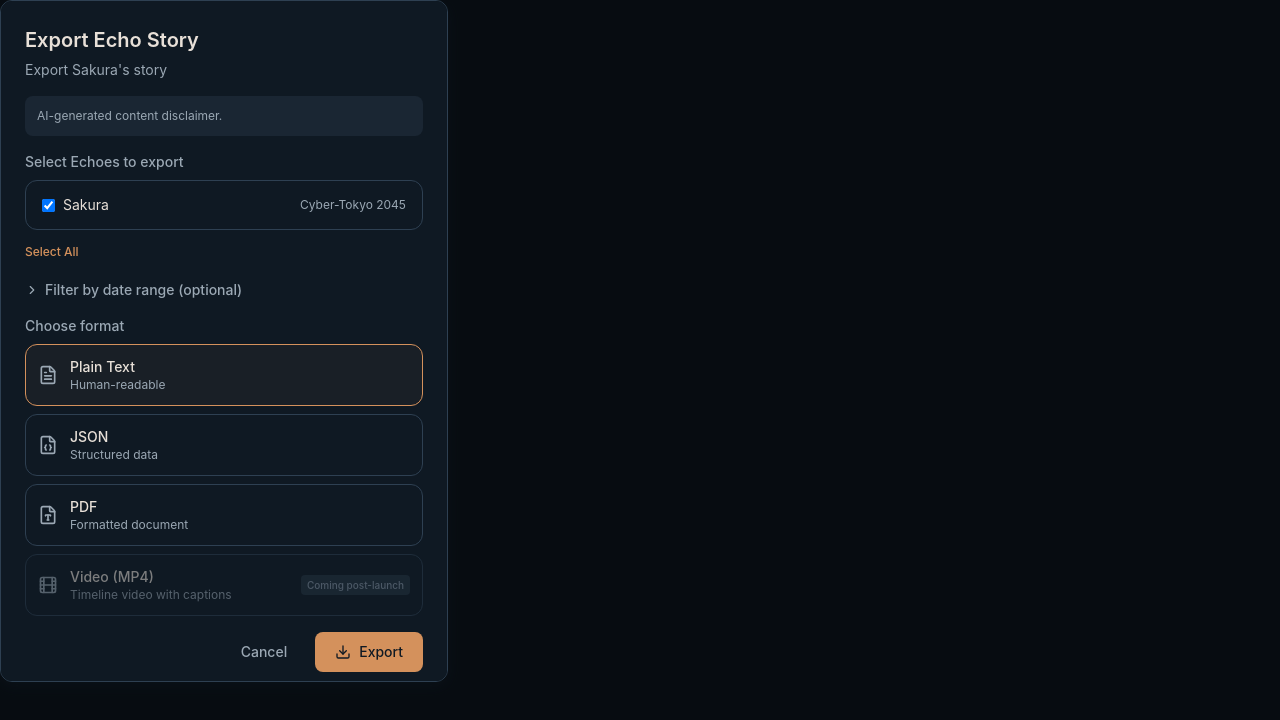
Scenario: StoryExportModal › shows progress bar during export
Click the button "Export". click: (369, 652)
box: [315, 632, 423, 672]
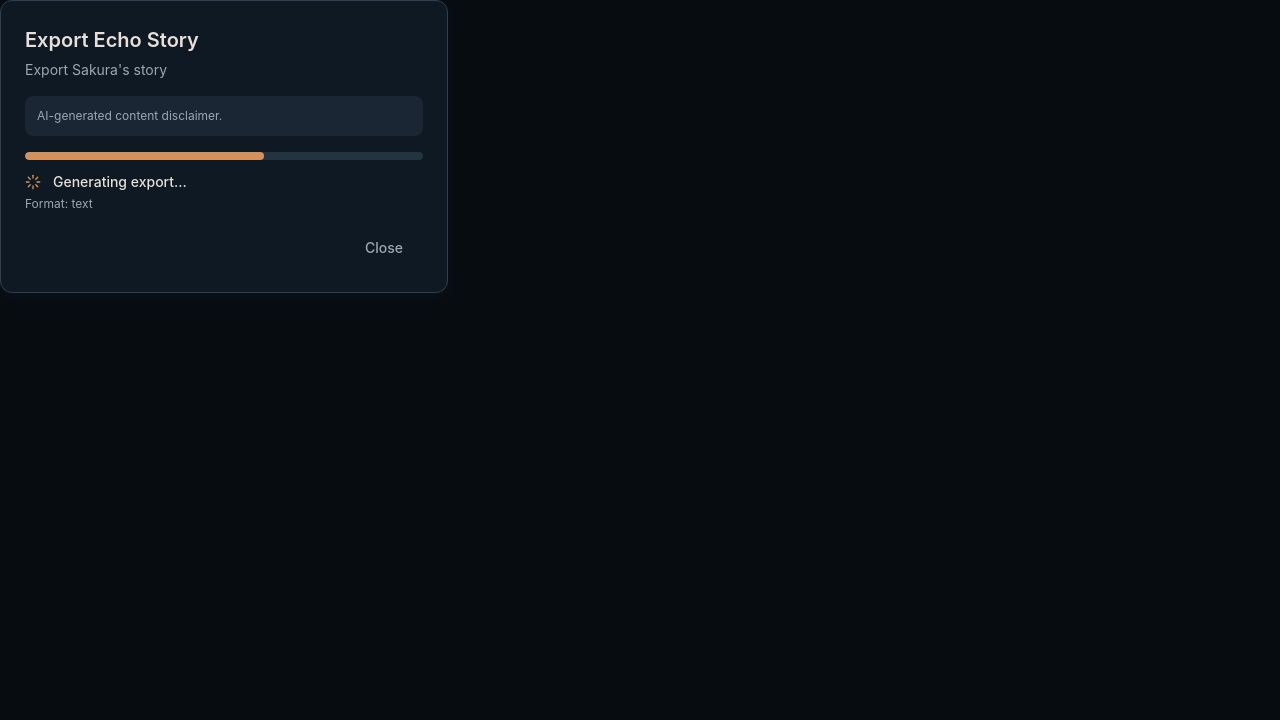
Check: the text "Generating export..." is shown, box [53, 172, 187, 192]
Check: the progress indicator is shown, box [25, 152, 264, 160]
